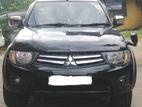car: (3, 0, 138, 105)
